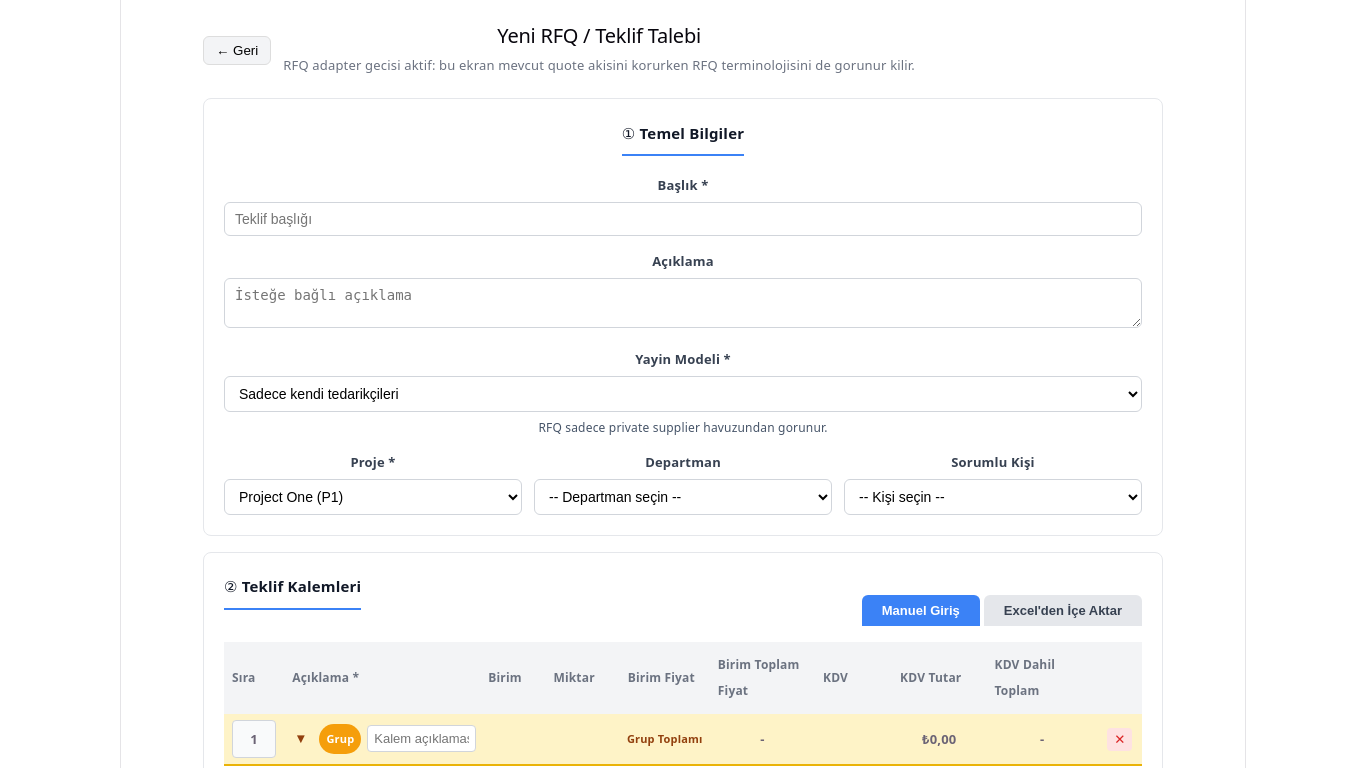
Test case: Quote page permissions › departman secildiginde ilk uygun sorumlu kisiyi otomatik secer
This screenshot has width=1366, height=768.
Expected: the heading "Yeni RFQ / Teklif Talebi" is shown, left=497, top=22, right=701, bottom=49
Select "Hammadde Satin Alma" in the dropdown named "Departman": (683, 497) left=534, top=479, right=832, bottom=515
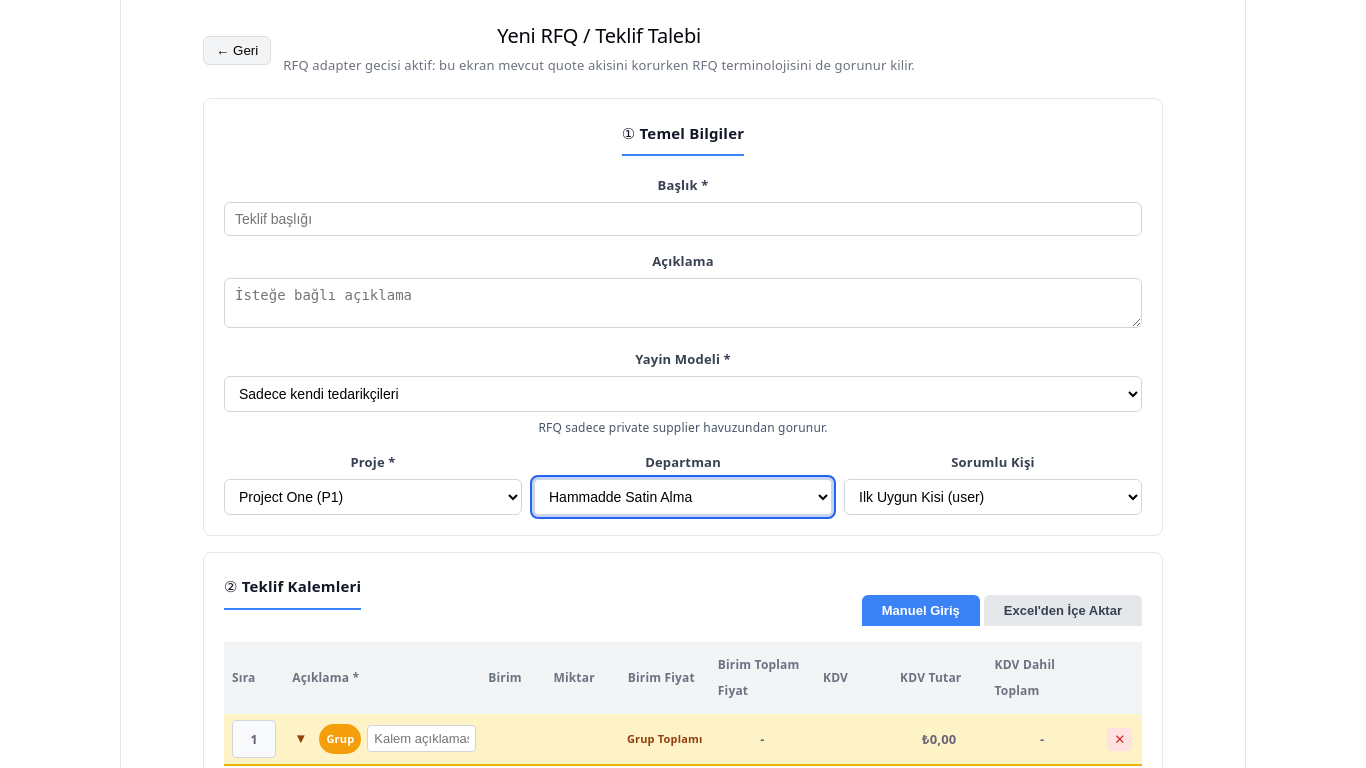
Expected: the dropdown named "Sorumlu Kişi" shows "Ilk Uygun Kisi (user)", left=844, top=479, right=1142, bottom=515
